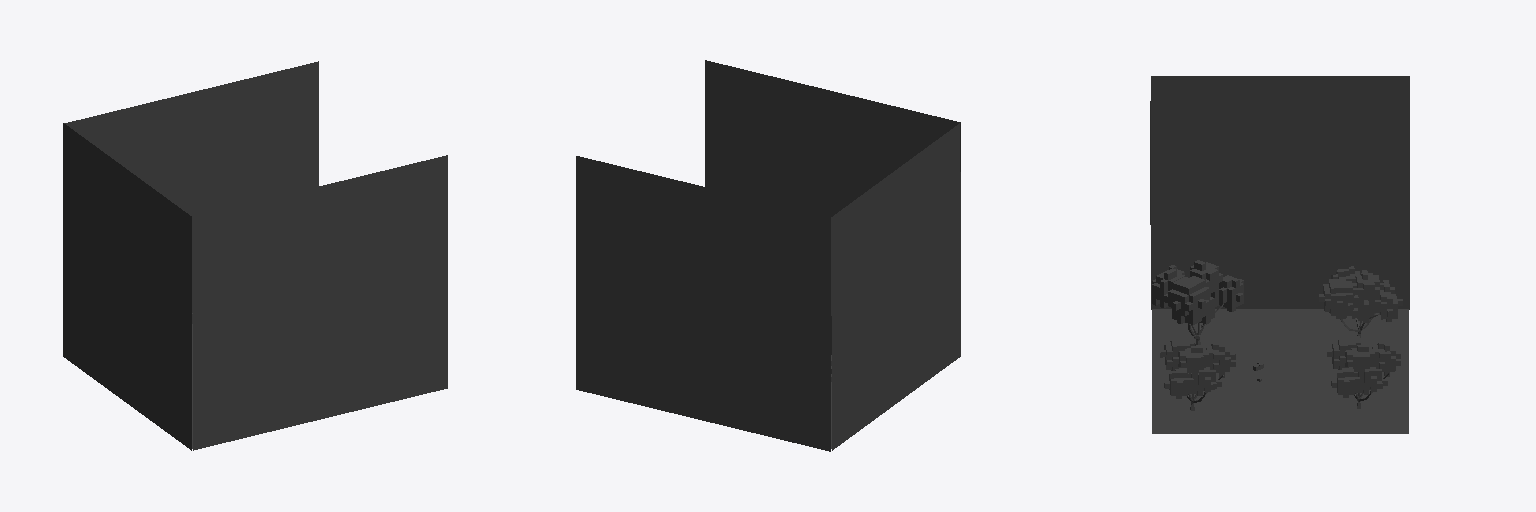
File: kaisoustage.obj
The picture shows the model from 3 angles: view 1: azimuth 30°, elevation 25°; view 2: azimuth 150°, elevation 25°; view 3: azimuth 270°, elevation 25°; orthographic projection.
Visible parts, largest first — view 1: Plane.003, Plane.001, Plane.002; view 2: Plane.002, Plane.001, Plane.003; view 3: Plane.001, Plane.005, Sphere.009, Sphere.004, Sphere.011, Sphere.001, 平面.
Boxes of the visible parts, <box> form: Plane.003: <box>193,155,447,450</box>; Plane.001: <box>63,123,191,450</box>; Plane.002: <box>64,61,318,323</box>; Plane.002: <box>576,156,831,451</box>; Plane.001: <box>831,123,960,450</box>; Plane.003: <box>705,60,960,217</box>; Plane.001: <box>1151,76,1409,309</box>; Plane.005: <box>1152,309,1408,433</box>; Sphere.009: <box>1152,260,1243,324</box>; Sphere.004: <box>1160,336,1235,398</box>; Sphere.011: <box>1319,266,1402,322</box>; Sphere.001: <box>1327,336,1400,397</box>; 平面: <box>1242,354,1317,385</box>.
Size of the model in its own units: 22.99 by 20.08 by 20.09.